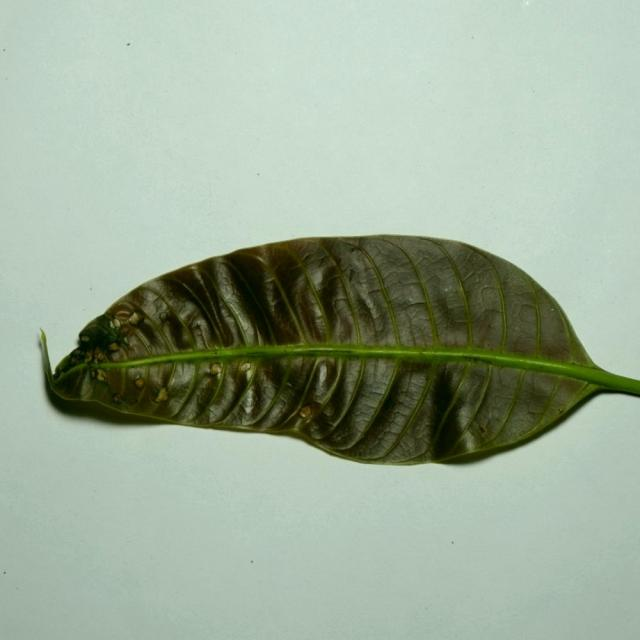Anthracnose: (338, 243, 400, 372), (218, 256, 287, 357), (464, 348, 529, 449), (160, 273, 224, 360), (379, 359, 439, 451), (109, 307, 168, 396), (472, 246, 511, 350), (372, 237, 430, 277), (518, 266, 544, 355), (309, 355, 346, 395), (105, 354, 130, 402), (74, 367, 102, 403), (331, 295, 354, 330), (330, 238, 370, 257), (262, 274, 281, 297), (368, 287, 390, 301)
Mango: (39, 236, 639, 470)
